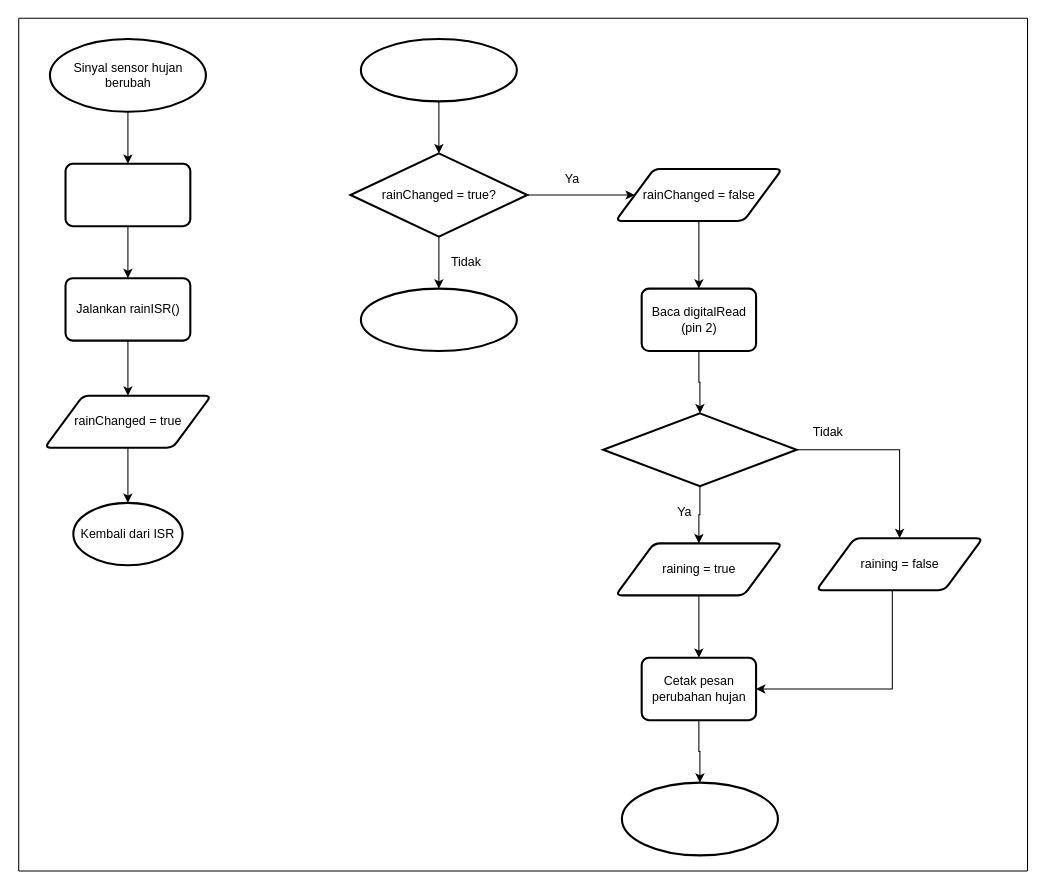
The diagram is 1046 pixels wide and 890 high, and some of its shapes have lost their labels. Here are the shapes that lost their labels. From the top down, the box of each, then its label:
(359, 37, 517, 102): Program utama di loop
(64, 162, 191, 227): Interrupt CHANGE terpicu
(359, 287, 517, 352): Lanjutkan proses utama
(602, 412, 797, 487): Hasil pembacaan LOW?
(620, 781, 778, 856): Lanjutkan pembacaan sensor dan logika irigasi
